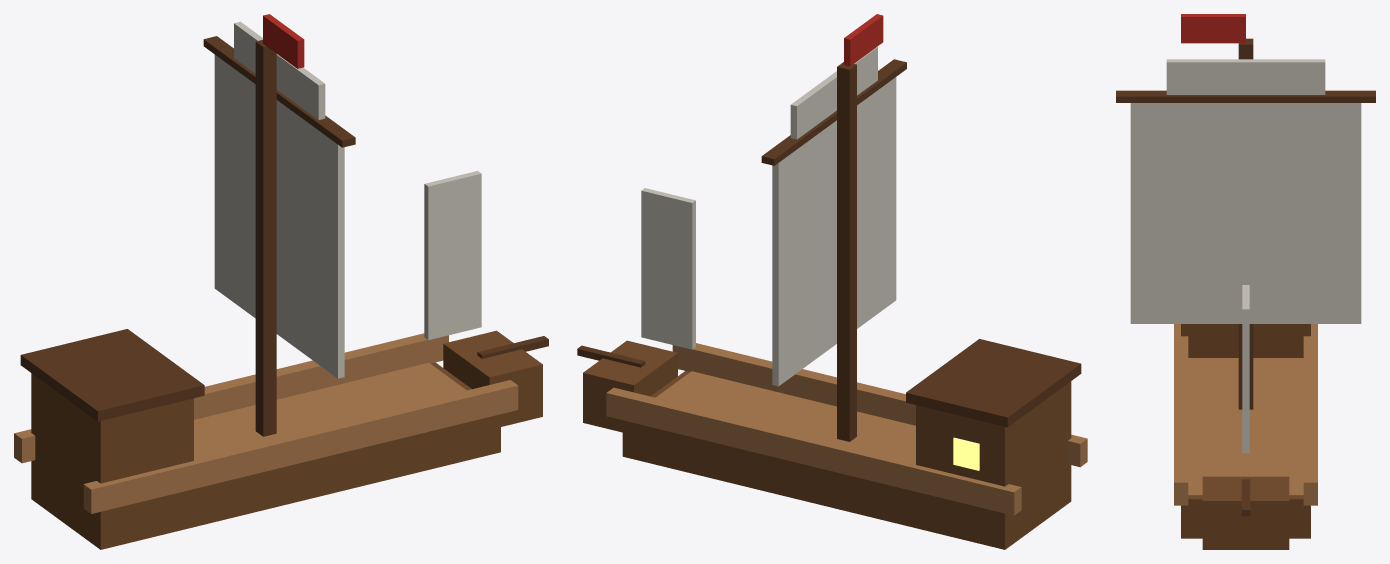
Rendered from sailing-ship.glb.
The picture shows the model from 3 angles, left to right: view 1: azimuth 30°, elevation 25°; view 2: azimuth 150°, elevation 25°; view 3: azimuth 270°, elevation 25°; orthographic projection. The views are drawn at different scales.
Parts seen in each view (by area): view 1: box-prop; view 2: box-prop; view 3: box-prop.
Boxes of the visible parts, x1,y1,x2,y2 form: box-prop: (14, 14, 548, 549); box-prop: (577, 14, 1087, 549); box-prop: (1116, 14, 1375, 549).
Bounding box in the file's own units: 7.4 × 6.6 × 3.6.
